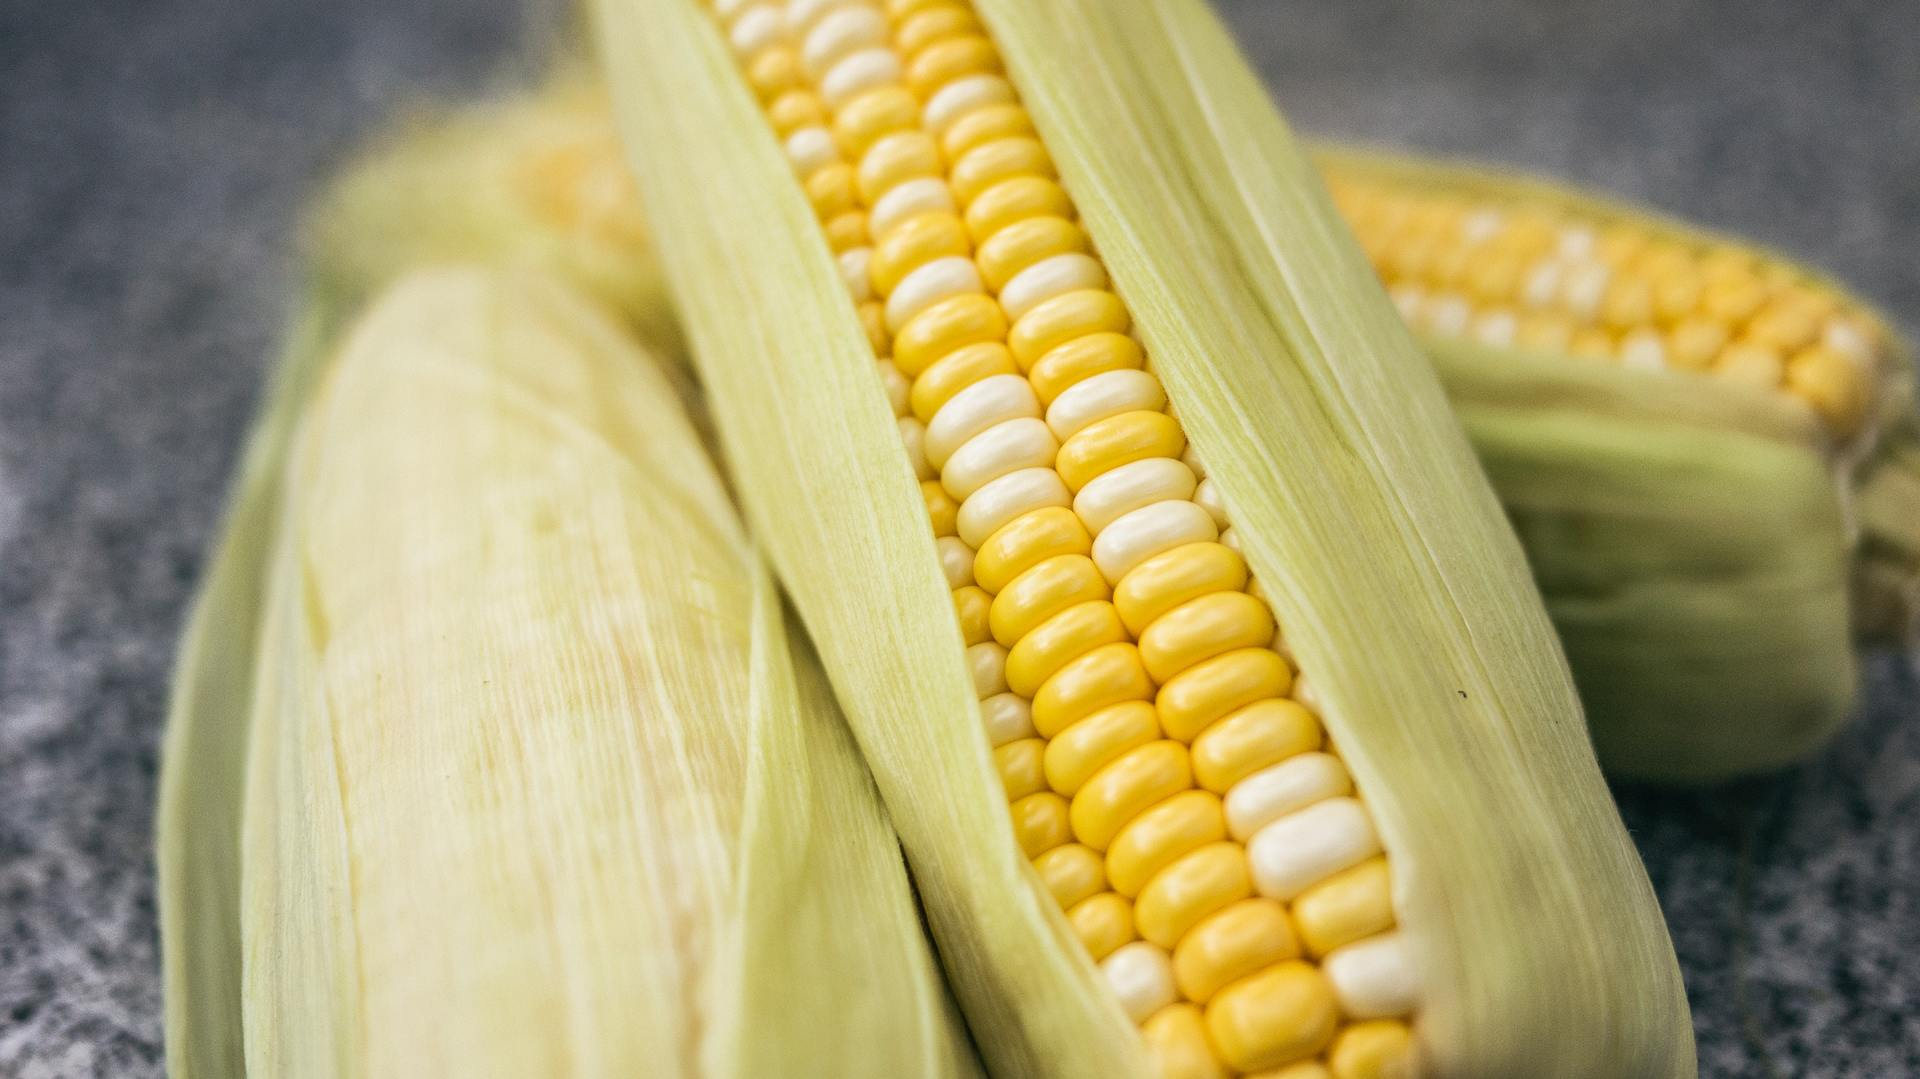corn: (661, 16, 1634, 1053)
